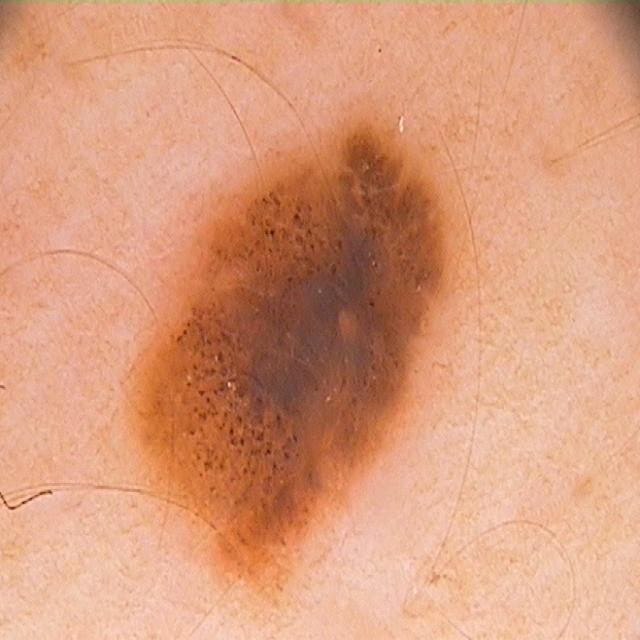Melanoma: (85, 92, 513, 640)
